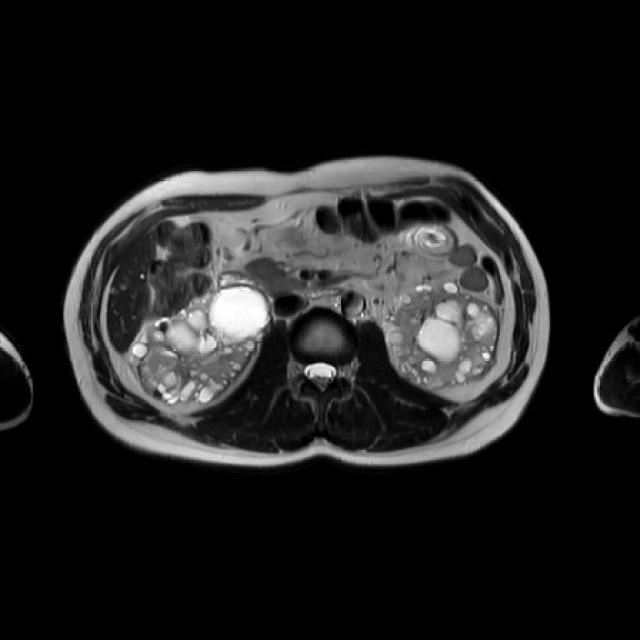sag: (131, 284, 272, 403)
sol: (387, 281, 499, 386)
